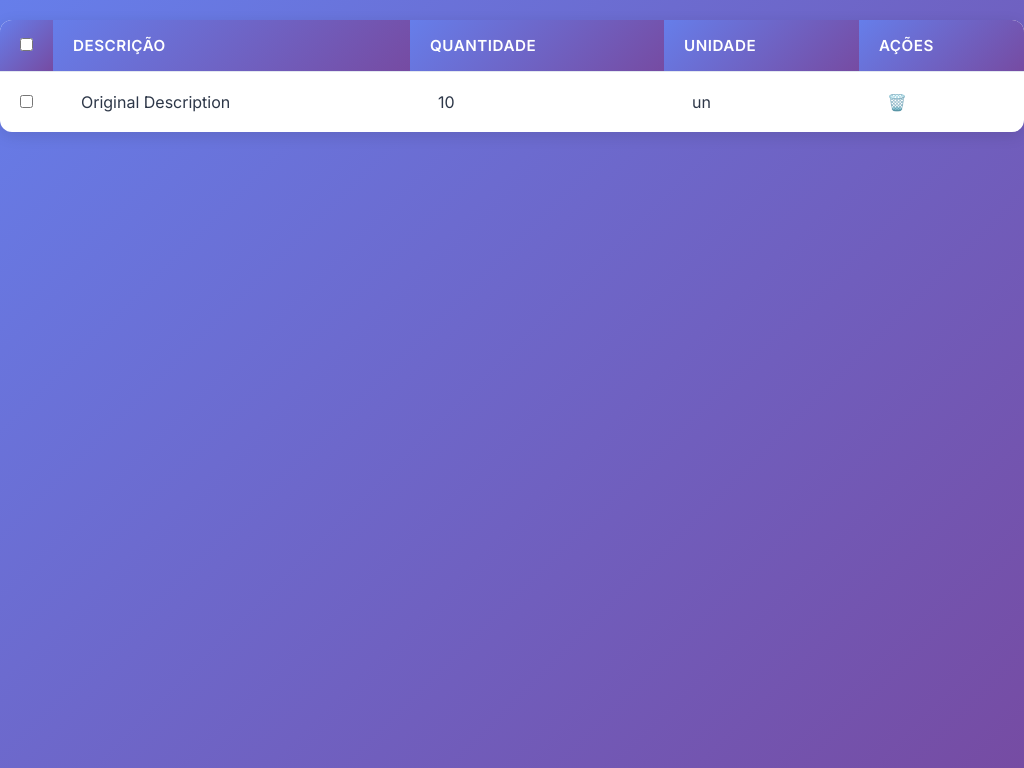
Scenario: MaterialsTable › cancels editing when Escape key is pressed
The width and height of the screenshot is (1024, 768).
// Start editing
Click the text "Original Description" at (156, 102), box [81,92,230,112]
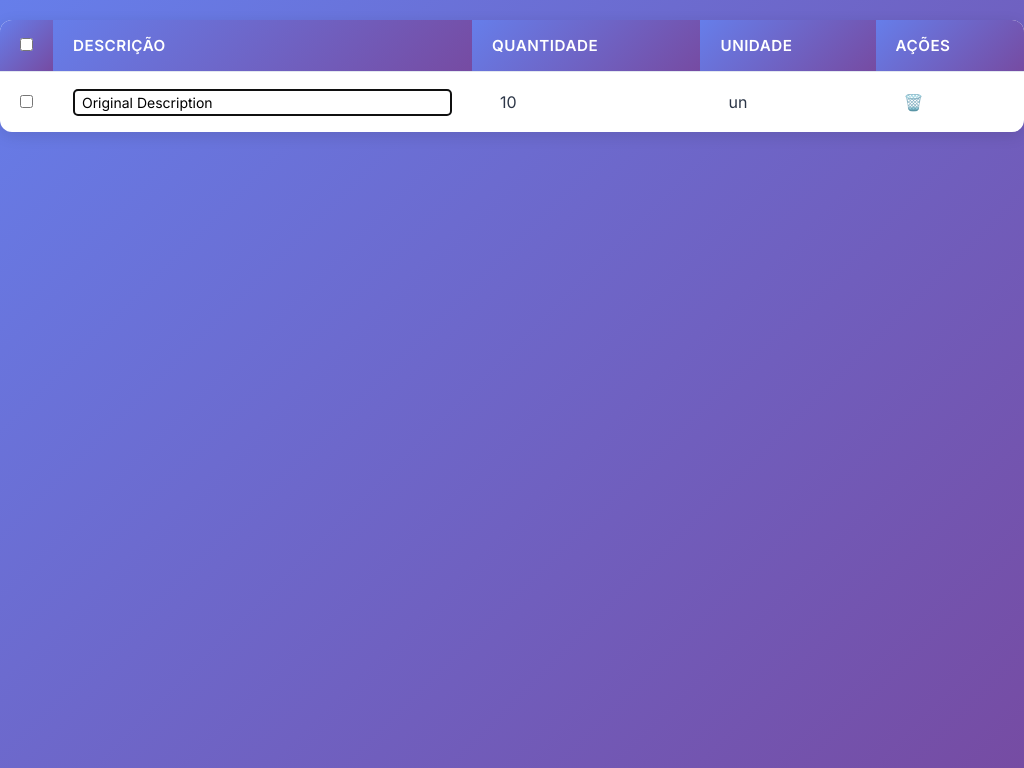
Replace the text in the field showing "Original Description" with "Modified Text" at (263, 102), box [73,88,452,116]
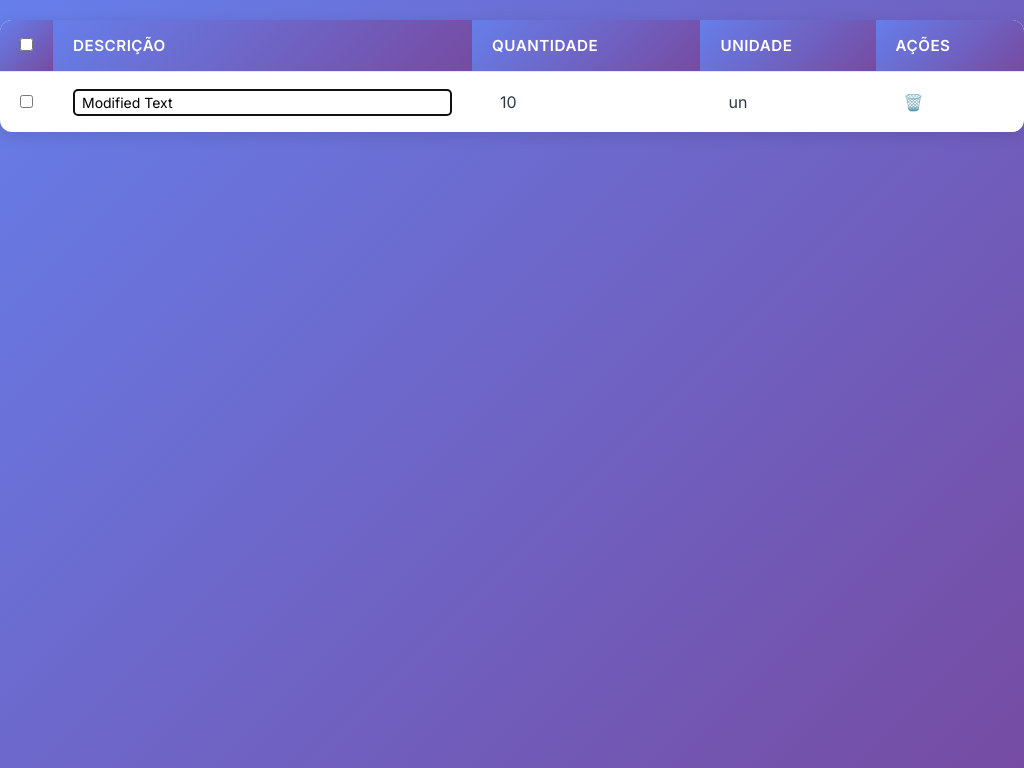
// Cancel with Escape
Press Escape
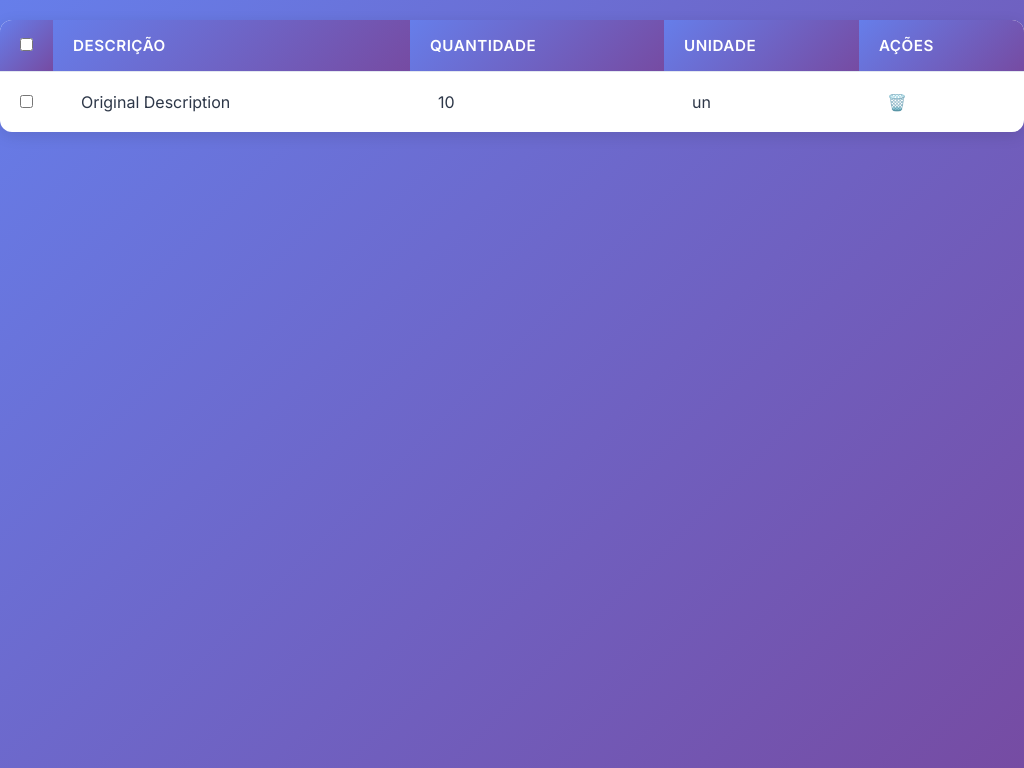
Check: the text "Original Description" is shown, box [81,92,230,112]
Check: the field showing "Modified Text" is gone
